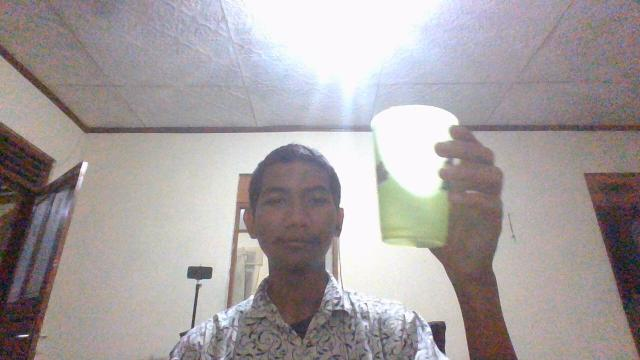botol-hijau: (359, 102, 468, 253)
